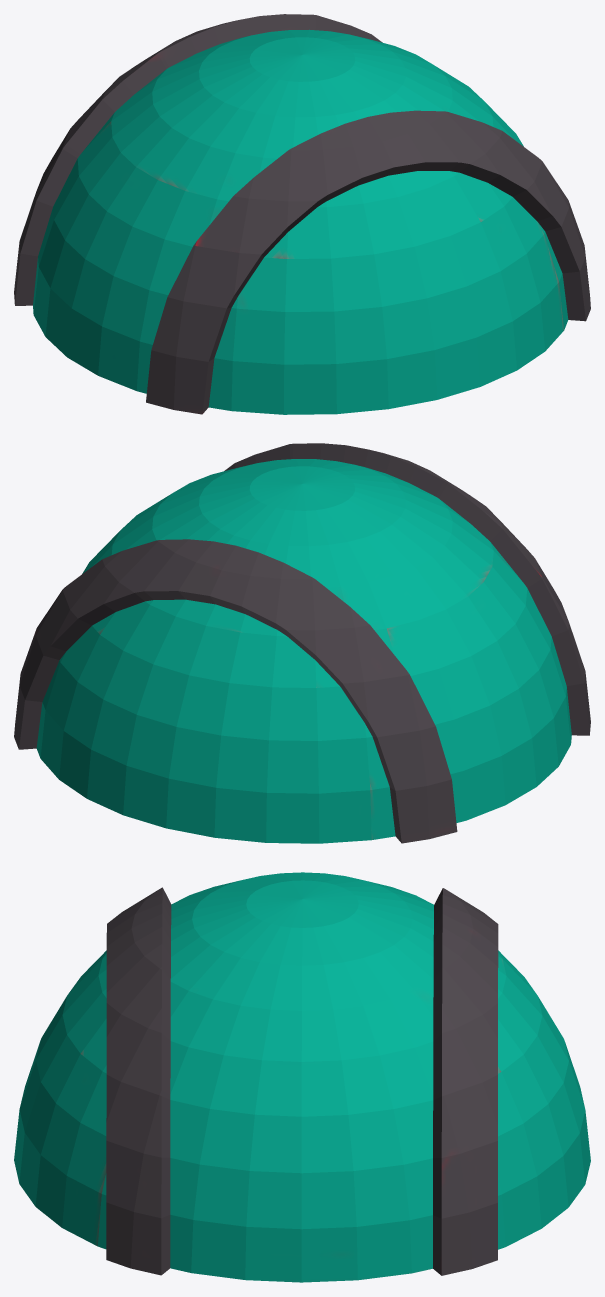
The model's file is Cockpit.obj.
3 renders of one model, top to bottom at view 1: azimuth 30°, elevation 25°; view 2: azimuth 150°, elevation 25°; view 3: azimuth 270°, elevation 25°, orthographic. The views are drawn at different scales.
Visible parts, largest first — view 1: Cylinder.002_Cylinder.005; view 2: Cylinder.002_Cylinder.005; view 3: Cylinder.002_Cylinder.005.
Part boxes in pixels (x1=…): Cylinder.002_Cylinder.005: x1=14, y1=14, x2=590, y2=414; Cylinder.002_Cylinder.005: x1=14, y1=443, x2=590, y2=843; Cylinder.002_Cylinder.005: x1=14, y1=872, x2=590, y2=1282.
Size of the model in its own units: 0.3012 by 0.1506 by 0.3012.
